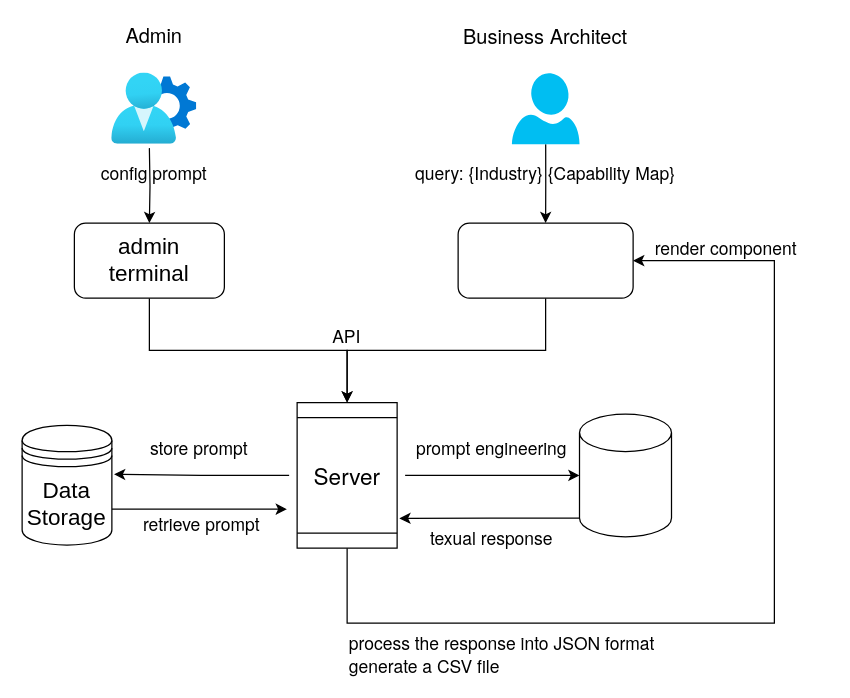
The diagram is 850 pixels wide and 698 high, and some of its shapes have lost their labels. The box of each missing label's shape, as (x1, y1, x2, y2) in pixels:
conversational interface: (457, 222, 633, 298)
LLM: (578, 413, 672, 537)
